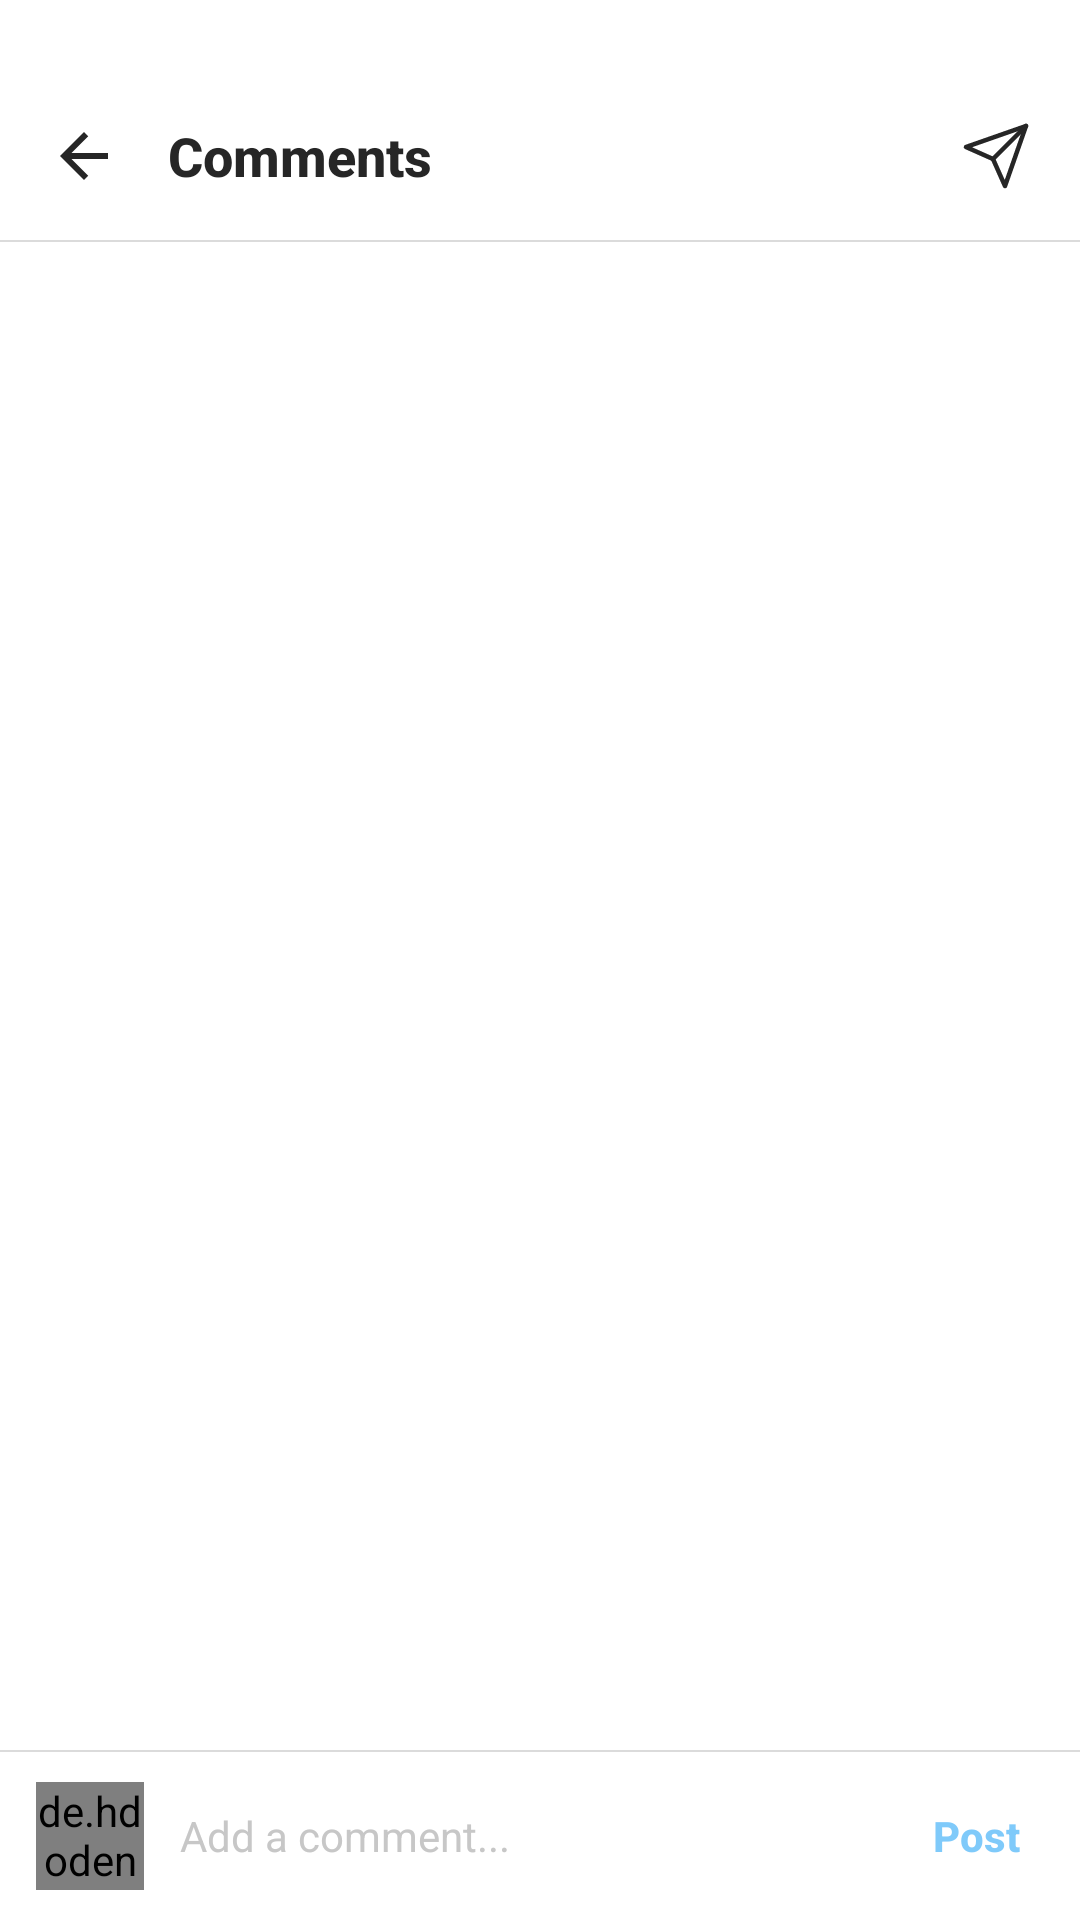

Screen size 1080x1920. Icon name, then its box in pixels as (x1, y1, x2, y2):
Back: (60, 132, 108, 180)
Share: (963, 123, 1029, 189)
